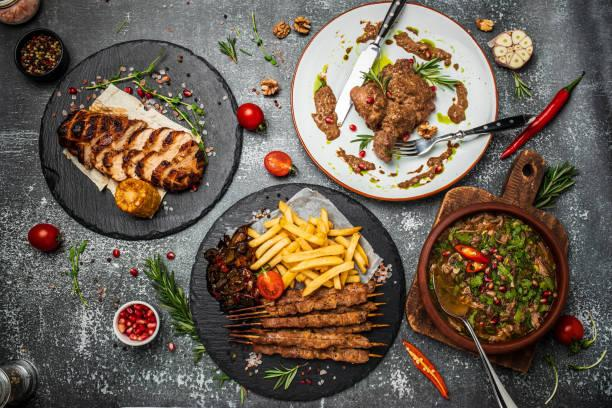Braised Crucian Carp: (187, 181, 402, 400), (290, 1, 493, 202), (39, 37, 238, 239), (416, 200, 567, 352)
